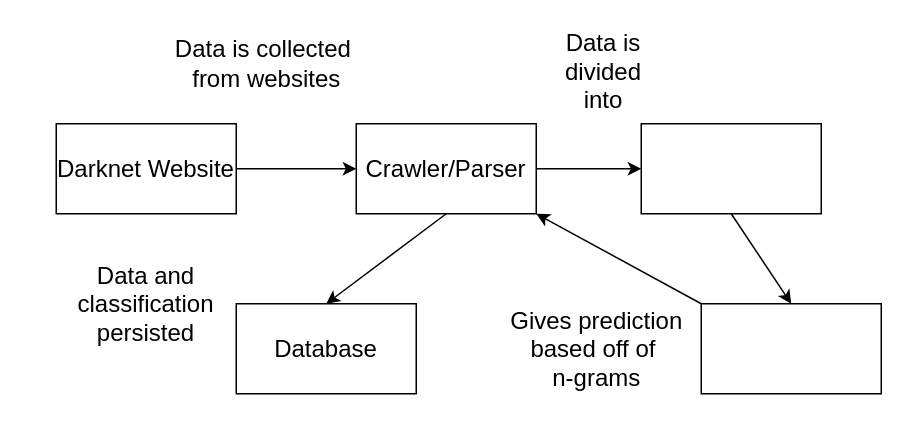
Some shapes in this 908 by 426 pixel diagram are drawn without their labels. The centre of each missing label's shape, as x and y in pixels:
"ML Model" belongs at [790,348].
"N-grams, data preprocessing" belongs at [730,168].
